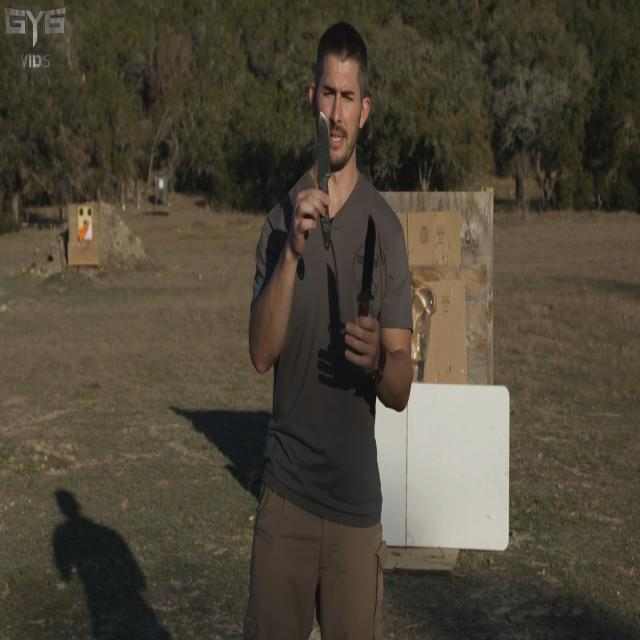knife: (317, 109, 333, 255), (358, 215, 380, 317)
